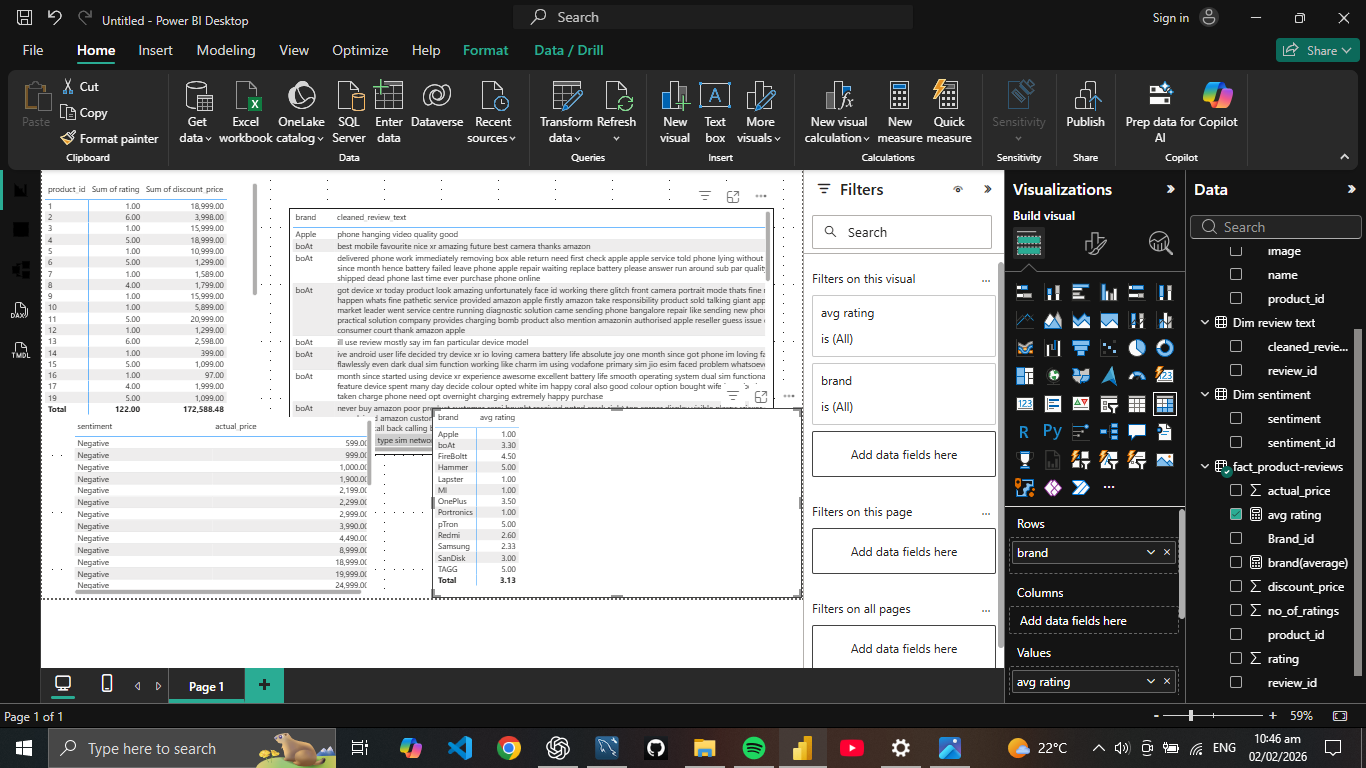

The page's visual inventory and layout, read from the dashboard file:
{"tool":"powerbi","page":{"name":"Page 1","canvas":[1280,720],"ordinal":0},"visuals":[{"type":"pivotTable","fields":{"Rows":["Dim product.product_id"],"Values":["Sum(fact_product-reviews.rating)","Sum(fact_product-reviews.discount_price)","Sum(fact_product-reviews.actual_price)"]},"box":[0,16,368,400],"z":0},{"type":"tableEx","fields":{"Values":["Dim brand.brand","Dim review text.cleaned_review_text"]},"box":[416,64,816,416],"z":1000},{"type":"tableEx","fields":{"Values":["Dim product.name","Dim sentiment.sentiment"]},"box":[48,416,688,304],"z":2000},{"type":"pivotTable","fields":{"Rows":["Dim brand.brand"],"Values":["fact_product-reviews.avg rating"]},"box":[656,400,624,320],"z":3000},{"type":"actionButton","box":[992,16,96,32],"z":3001}]}

Visuals, with their boxes on the page's 1280x720 design canvas (x1, y1, x2, y2). These are canvas units, not pixel positions in the 1366x768 screenshot, which may show the page scaled, cropped or inside an application window:
pivotTable - Dim product.product_id x Sum(fact_product-reviews.rating): <region>0, 16, 368, 416</region>
tableEx - Dim brand.brand x Dim review text.cleaned_review_text: <region>416, 64, 1232, 480</region>
tableEx - Dim product.name x Dim sentiment.sentiment: <region>48, 416, 736, 720</region>
pivotTable - Dim brand.brand x fact_product-reviews.avg rating: <region>656, 400, 1280, 720</region>
actionButton: <region>992, 16, 1088, 48</region>
